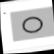no answer: (18, 13, 45, 35)
